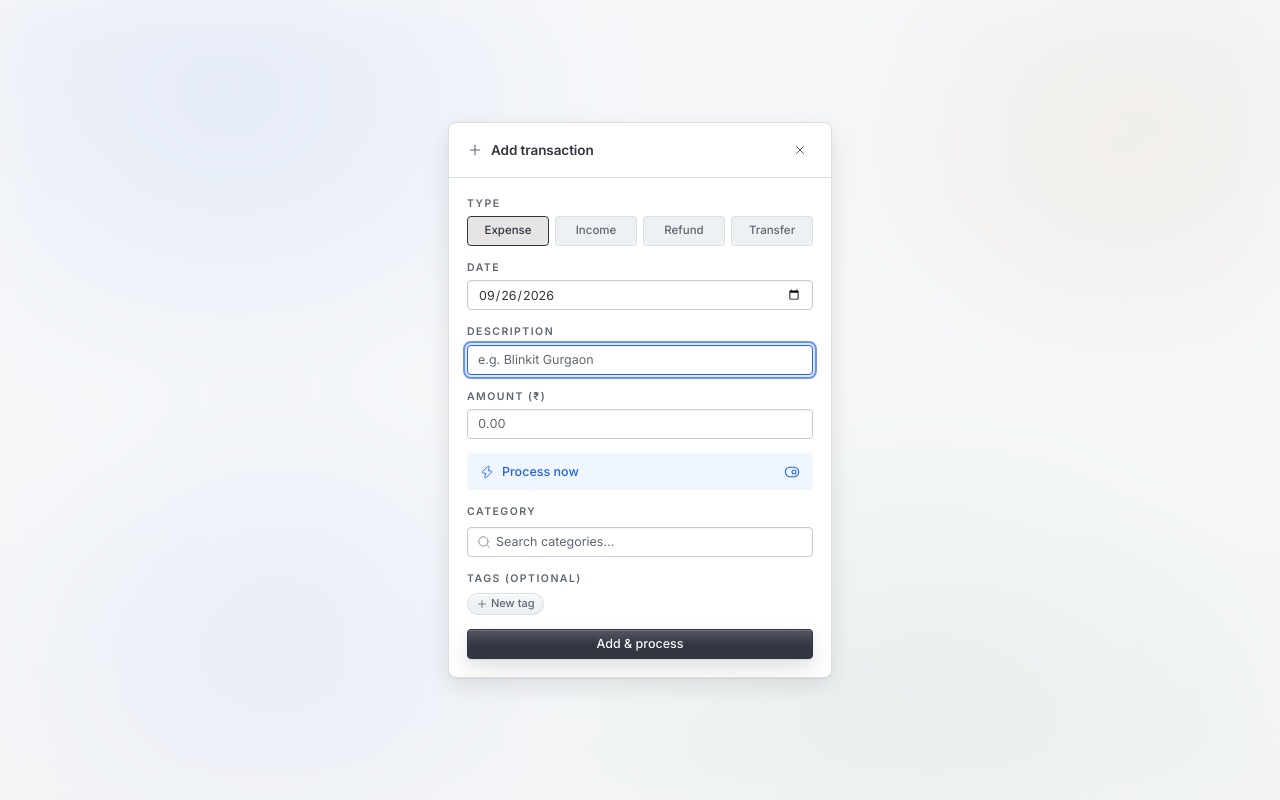
Test: future-dated transactions are rejected, past dates still work › AddTransactionDialog: a 1970 date passes date validation (no future-date error)
In the date field labelled "Date": (640, 296) [467,280,813,310], type "1970-01-15"
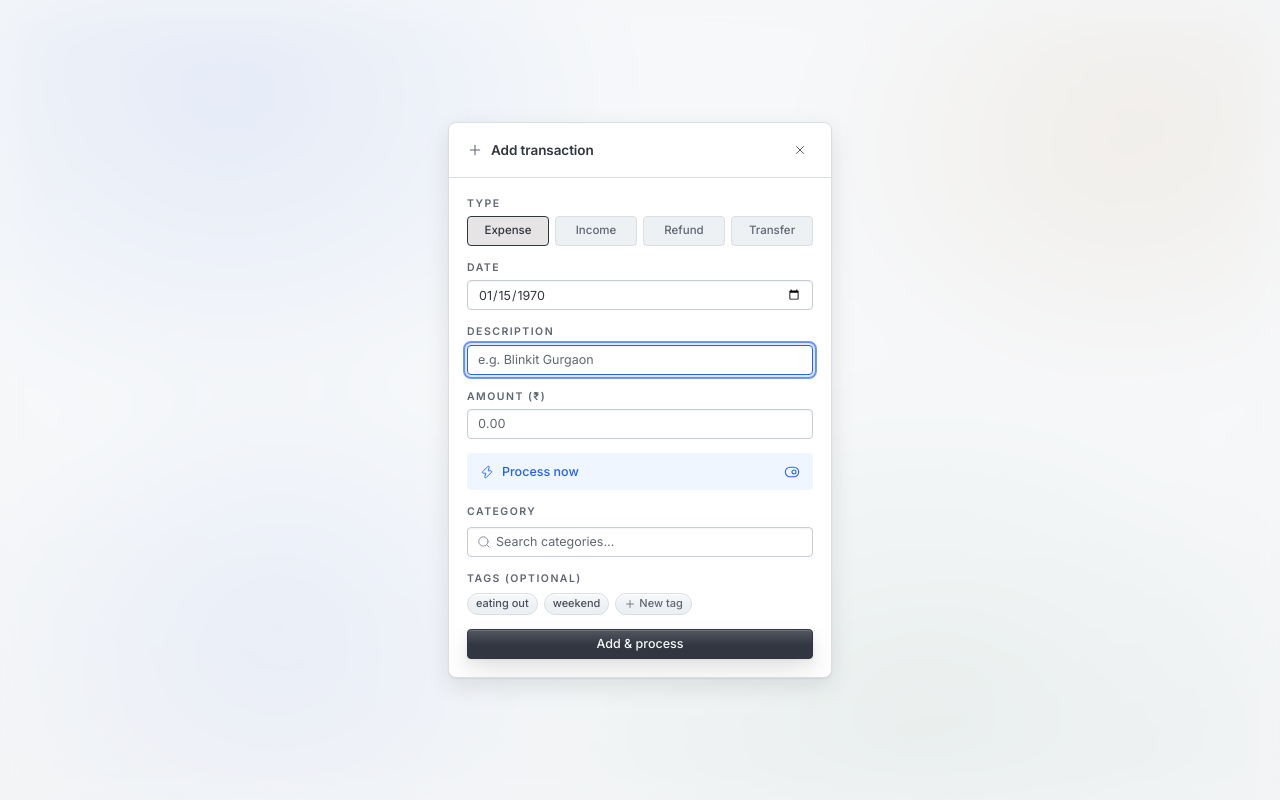
In the field labelled "Description": (640, 360) [467,345,813,375], type "Old test"
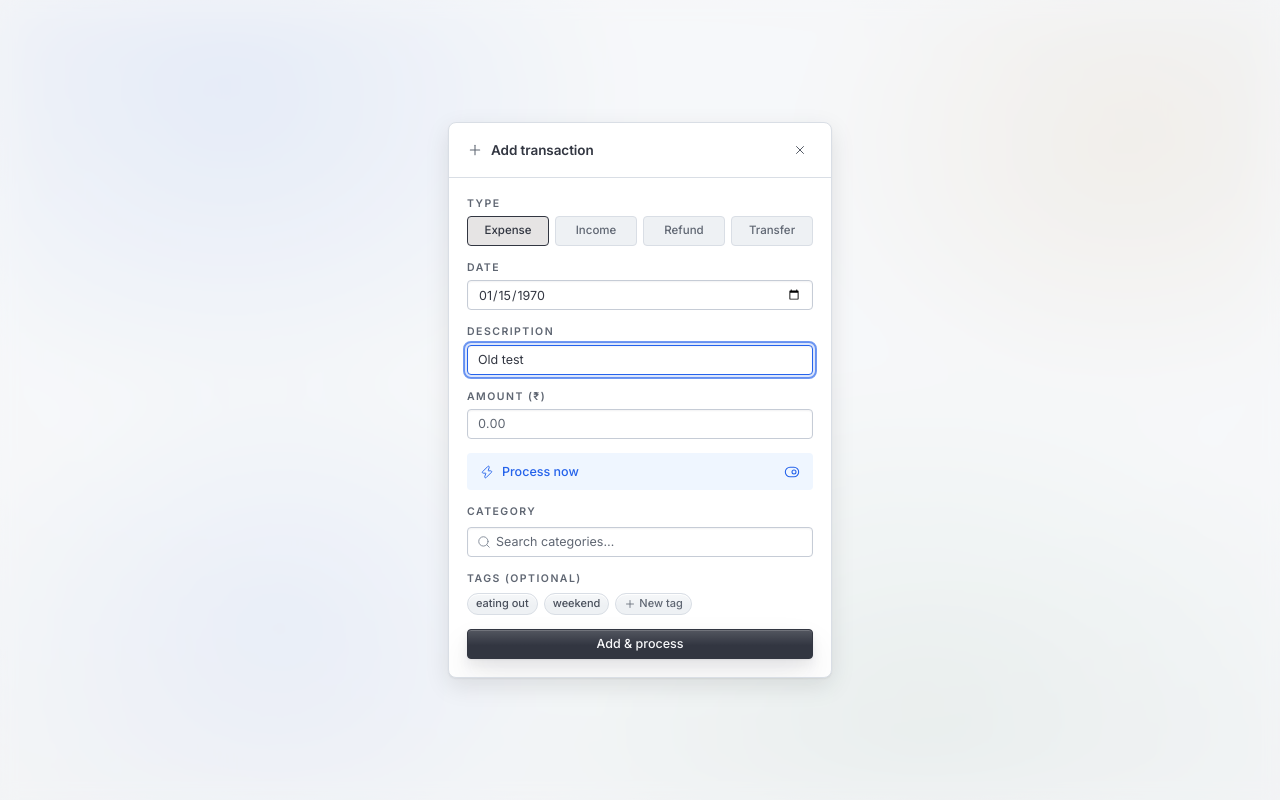
Submit the form, box [449,178,831,677]
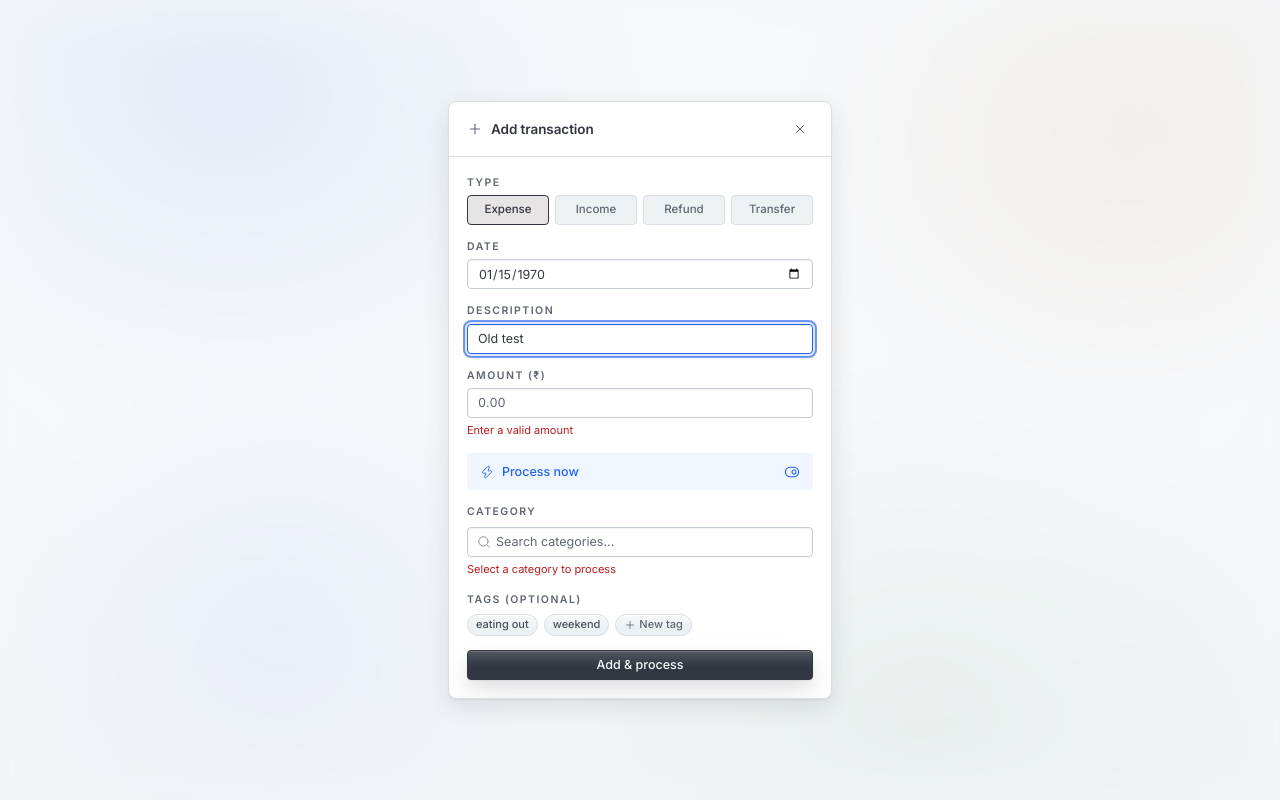
expect the text "Enter a valid amount" is shown: met, box [467,423,573,437]
